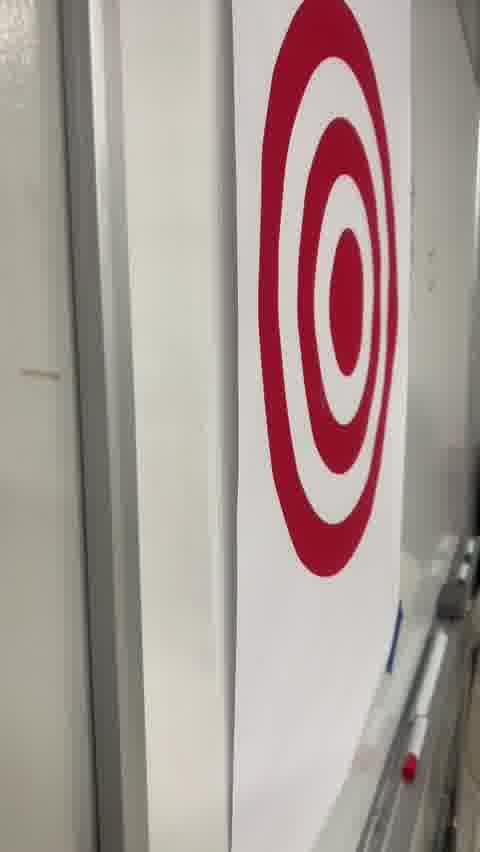target_red: (256, 0, 397, 578)
